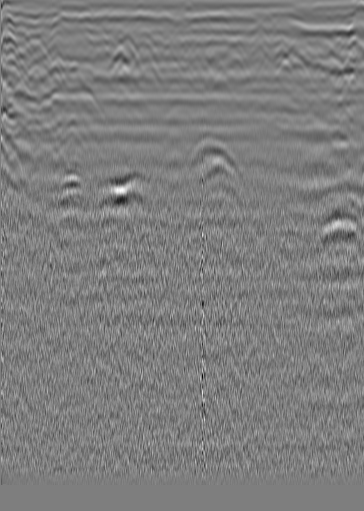가스: (87, 168, 143, 213)
상수: (310, 47, 330, 67)
우수: (178, 46, 198, 66)
